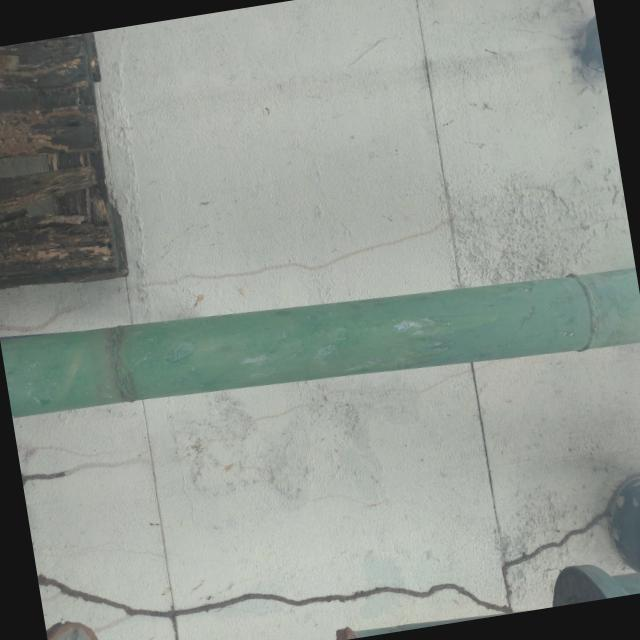gas: (0, 232, 640, 437)
